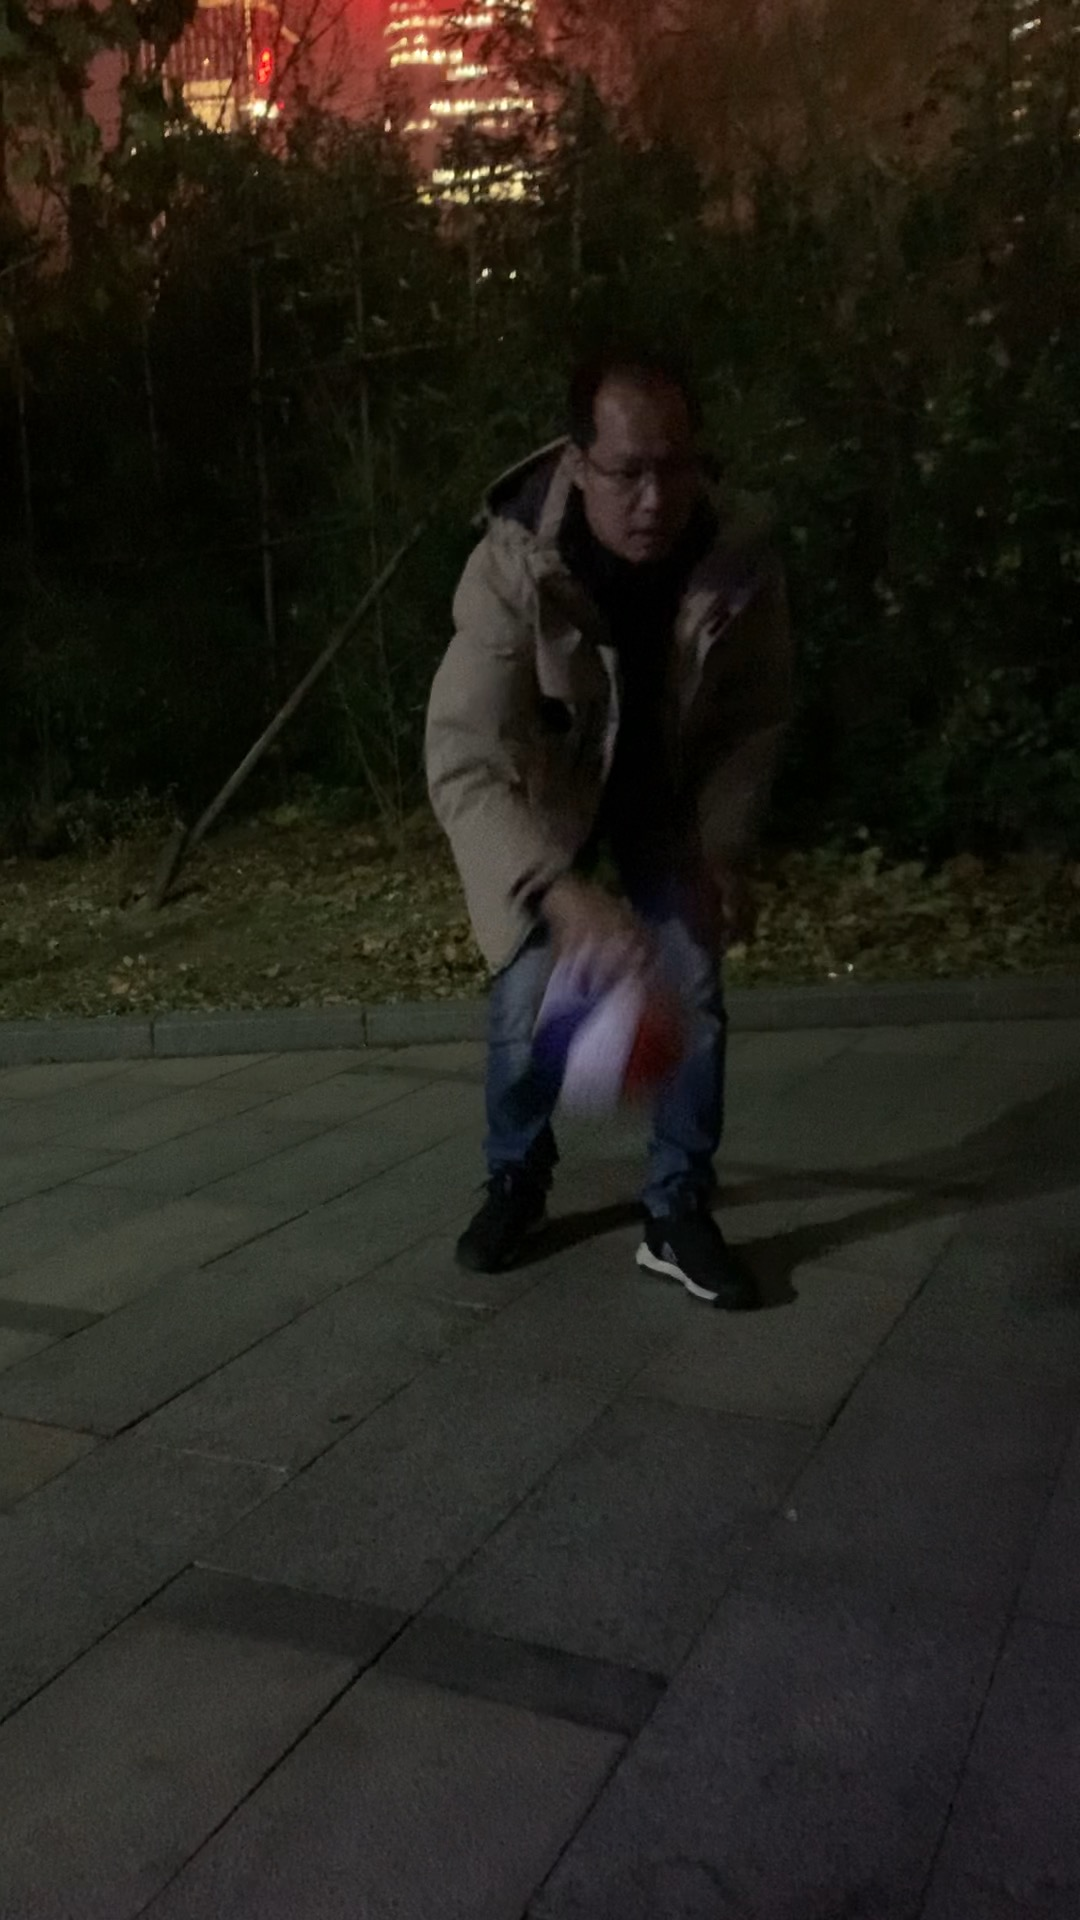ball: (530, 955, 688, 1124)
